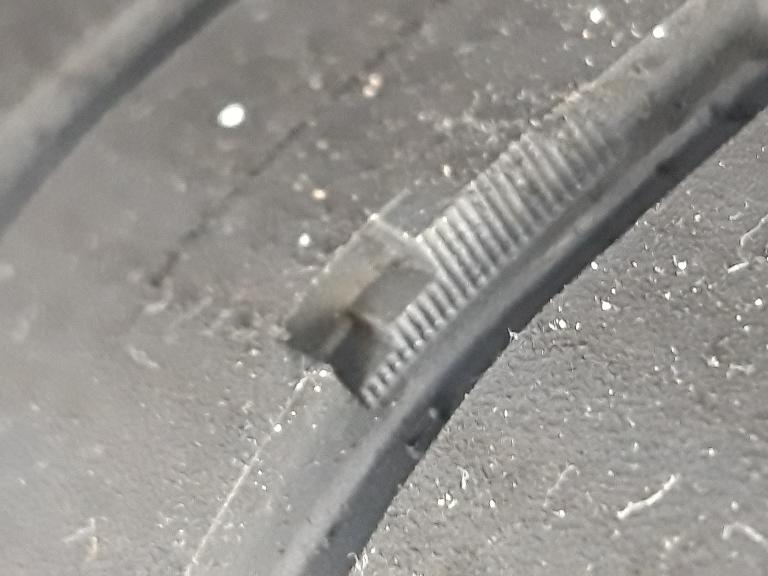temoin:50: (252, 178, 508, 438)
